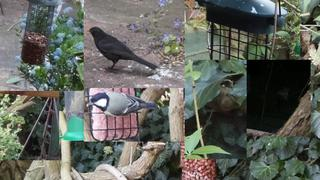blackbird: (85, 27, 158, 74)
great tit: (86, 91, 157, 116)
